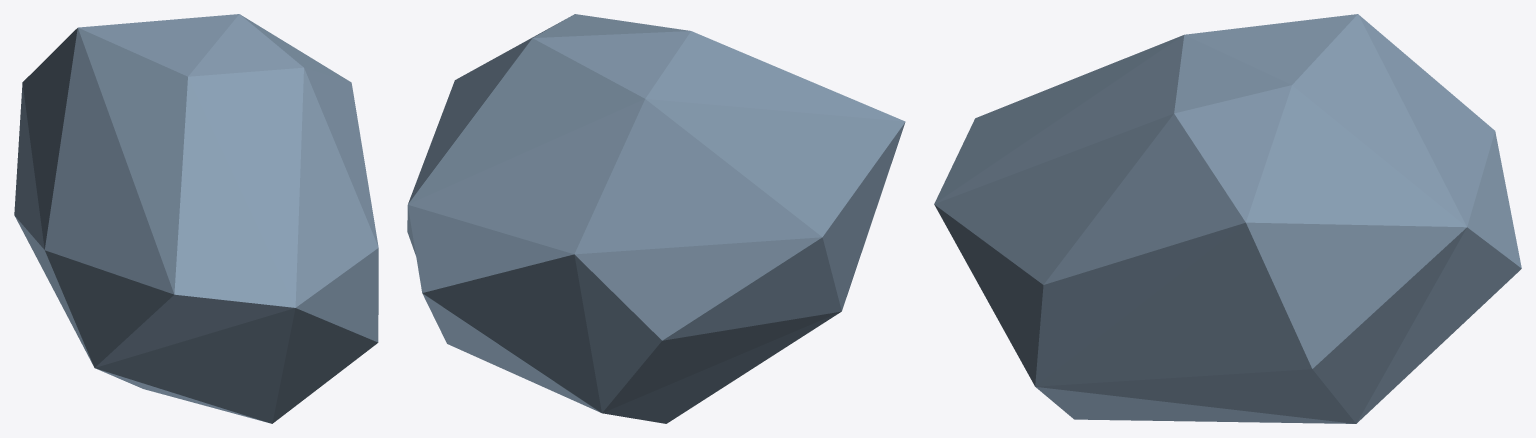
Rendered from Rock_3.fbx.
3 views of the same model, side by side, from view 1: azimuth 30°, elevation 25°; view 2: azimuth 150°, elevation 25°; view 3: azimuth 270°, elevation 25° (orthographic). The views are drawn at different scales.
Visible parts, largest first — view 1: M_Rock 3; view 2: M_Rock 3; view 3: M_Rock 3.
Boxes of the visible parts, left/top/right/bottom form: M_Rock 3: left=14, top=14, right=378, bottom=423; M_Rock 3: left=407, top=14, right=905, bottom=423; M_Rock 3: left=934, top=14, right=1521, bottom=423.
Bounding box in the file's own units: 43.03 × 41.25 × 57.06.
1 material, 1 textured.
